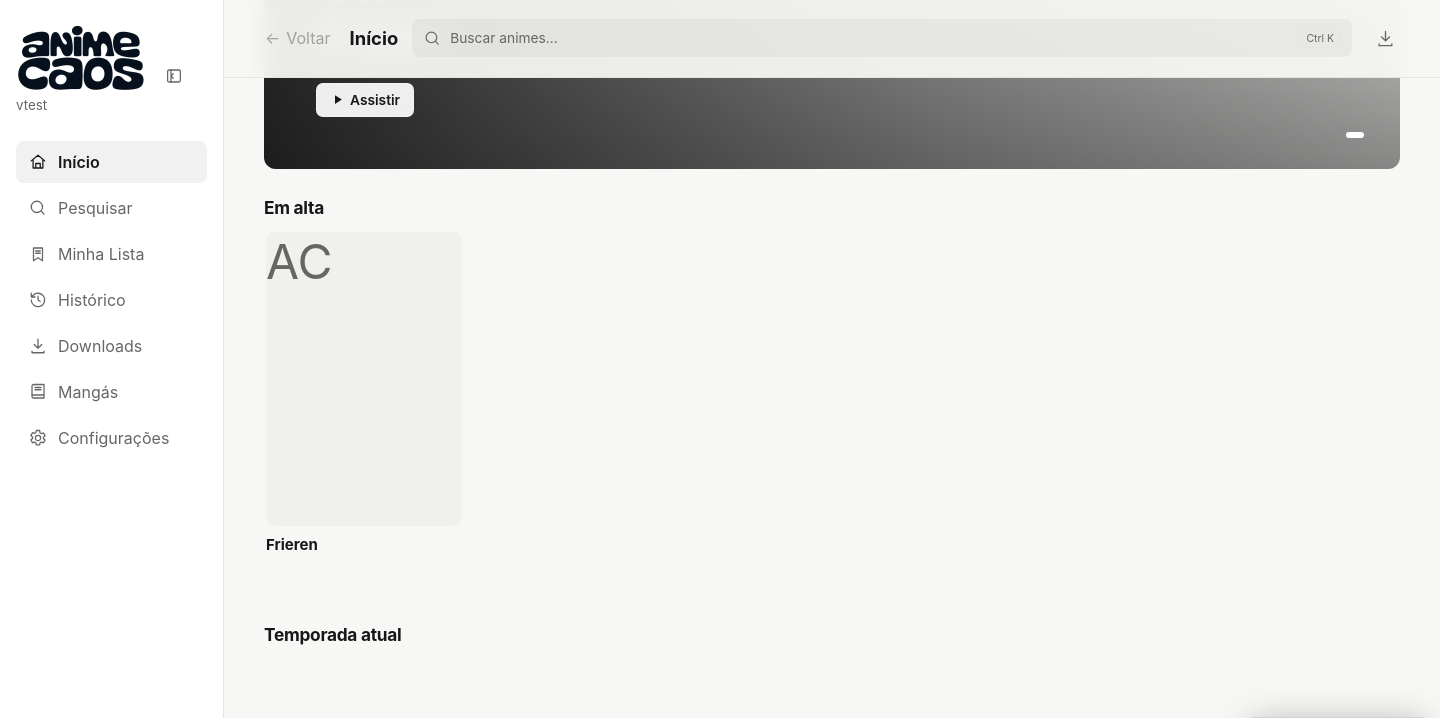
Test case: interface funcional › renderiza a prévia acima dos carrosséis em uma camada de viewport
(page scrolled)
expect the text "Frieren" is shown: met, box top-left (266, 534), bottom-right (318, 554)
Hover over the element showing "AC Frieren": (364, 405) top-left (266, 232), bottom-right (462, 578)
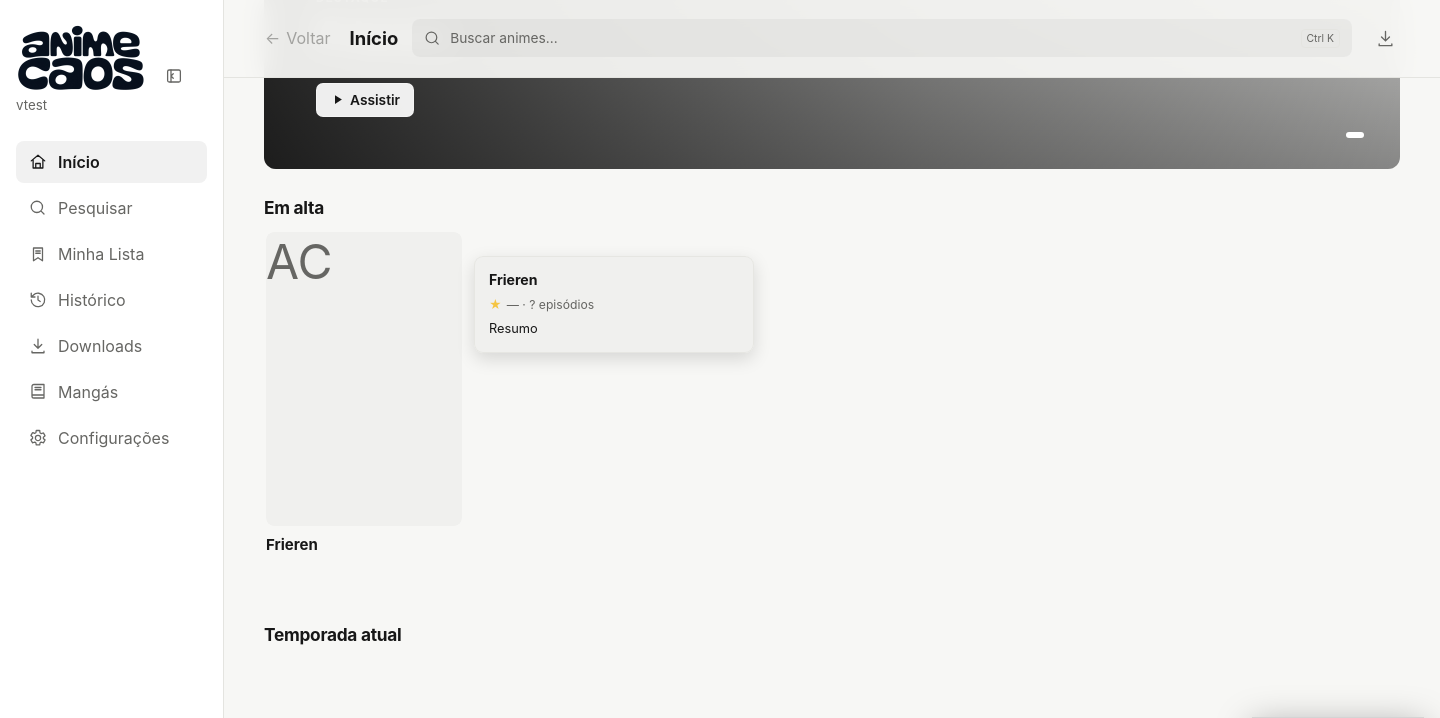
expect the tooltip shows "Resumo": met, box top-left (489, 321), bottom-right (538, 336)
